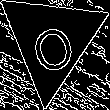O_NW: (24, 9, 79, 73)
